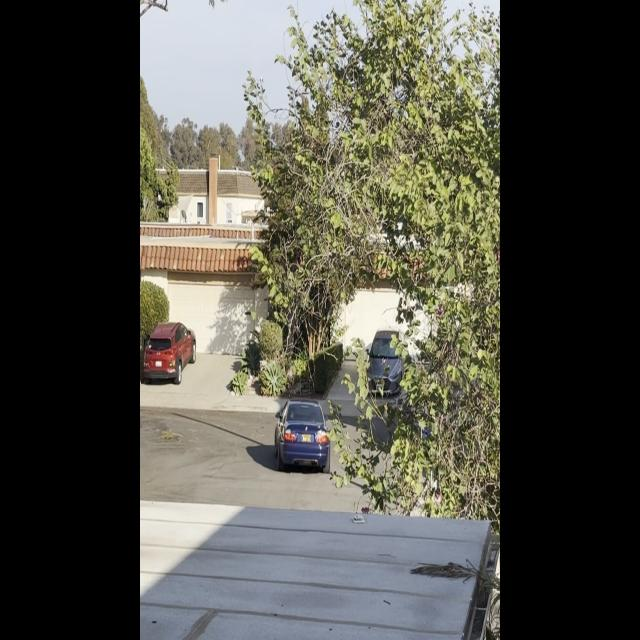Carbeetle: (271, 393, 332, 481)
Civilian: (140, 318, 199, 383), (363, 320, 409, 403)
